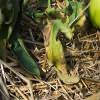Tomato Early blight leaf: (41, 15, 80, 84)
